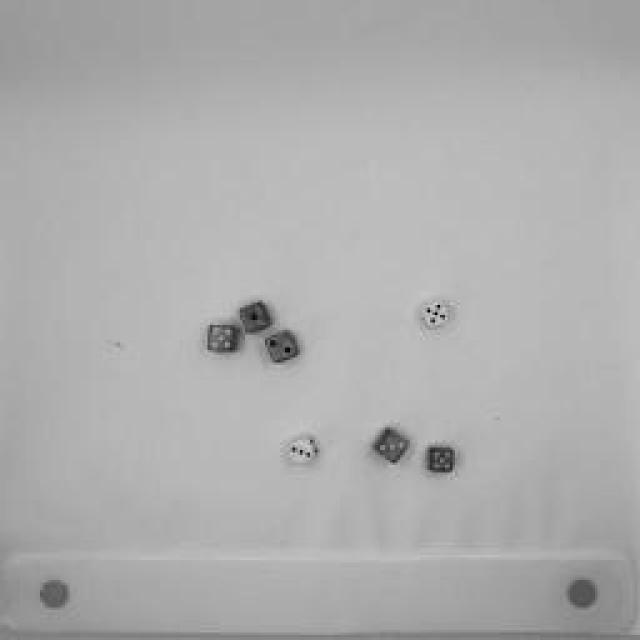dice_1: (237, 299, 275, 339)
dice_2: (256, 330, 304, 365)
dice_3: (370, 423, 415, 465), (284, 431, 321, 471)
dice_5: (201, 319, 239, 356), (415, 299, 455, 331), (422, 444, 458, 476)
